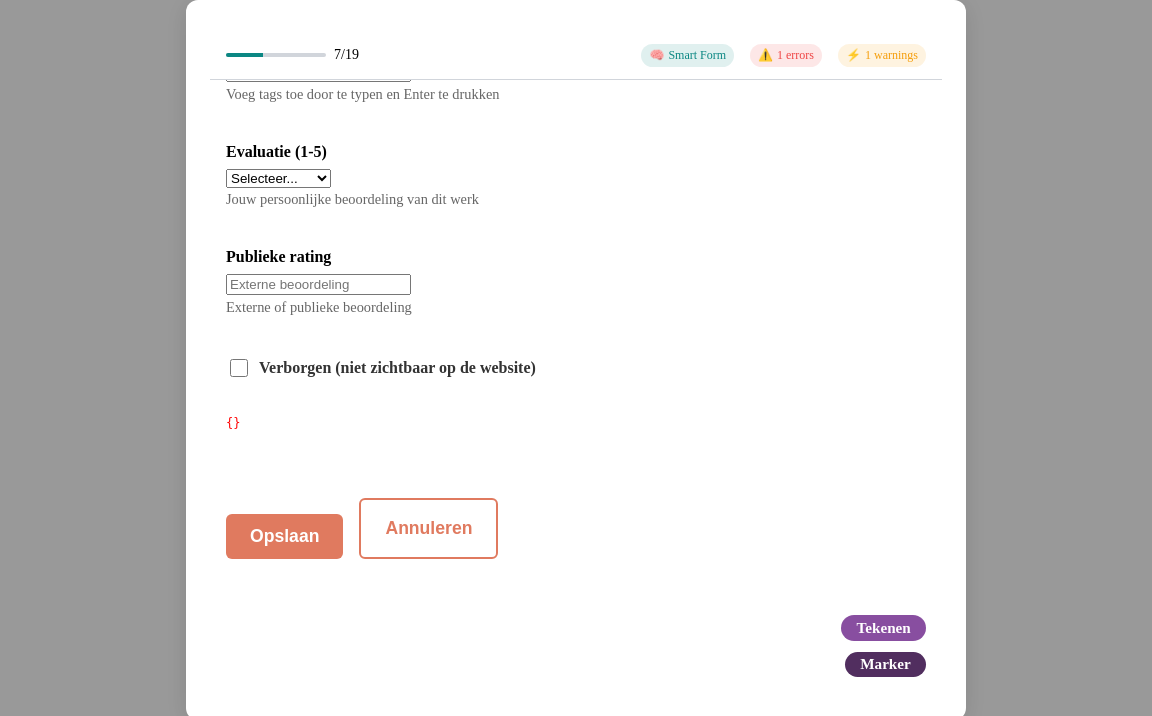
Test: AdminModal › validates required fields
(page scrolled)
Click the button "Opslaan".
click(285, 536)  # box [226,514,343,559]
(page scrolled)
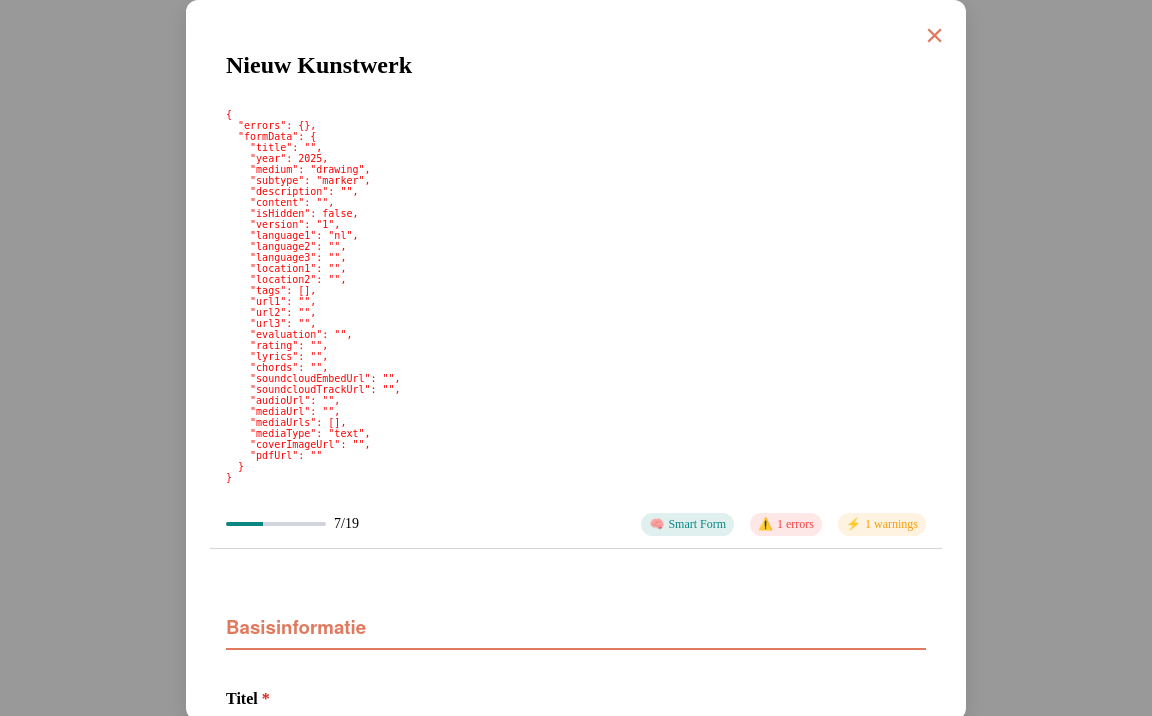
expect the text "errors" is shown: met, box [226,109,401,483]
